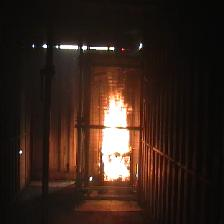fire: (101, 91, 130, 181)
